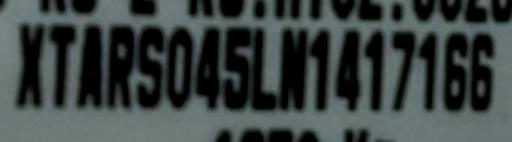letter: (10, 21, 50, 109), (102, 21, 140, 111), (276, 23, 314, 113), (132, 21, 170, 109), (220, 21, 256, 113), (192, 21, 228, 111), (164, 23, 200, 109), (306, 23, 340, 113), (248, 25, 282, 115), (72, 23, 108, 107), (46, 19, 78, 113), (412, 23, 444, 115), (362, 27, 394, 113), (438, 31, 472, 111), (334, 25, 364, 111), (388, 25, 418, 111), (468, 31, 500, 111)
